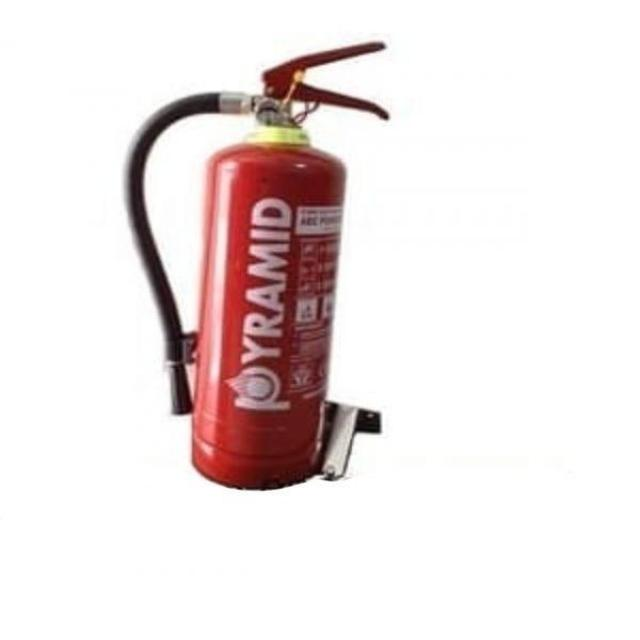fire_extinguisher: (114, 37, 394, 493)
